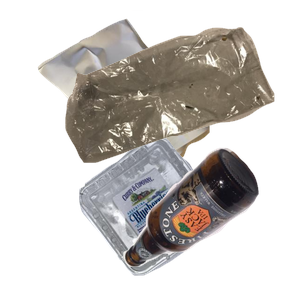glass: (120, 145, 300, 300)
paper: (35, 10, 237, 178)
plastic: (77, 133, 289, 300)
trash: (63, 24, 300, 179)
